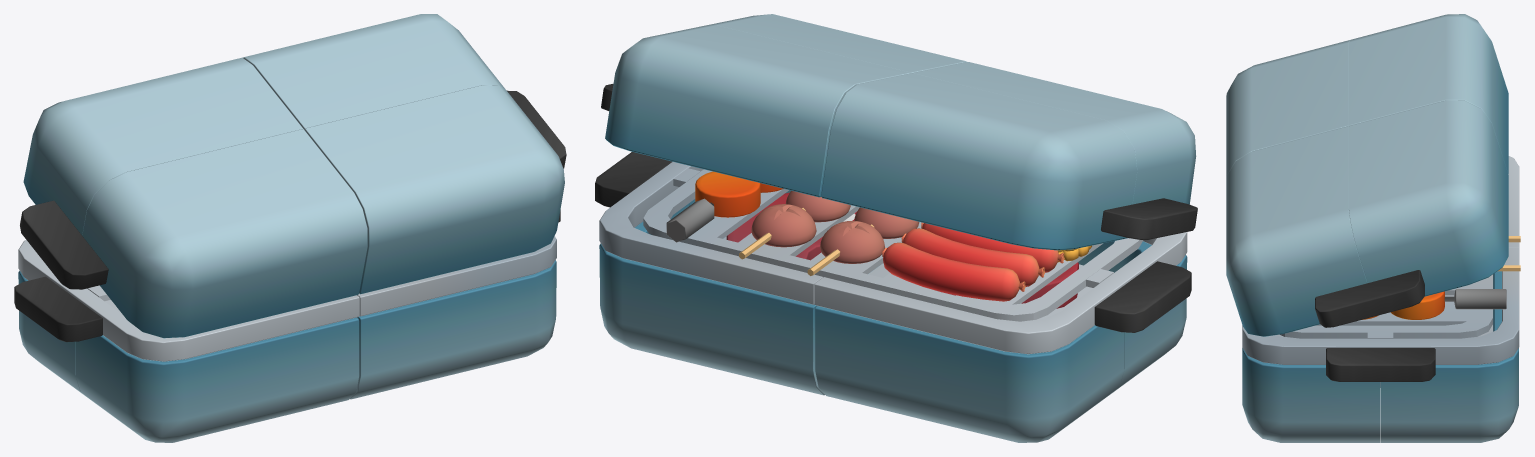
3 views of the same model, side by side, from view 1: azimuth 30°, elevation 25°; view 2: azimuth 150°, elevation 25°; view 3: azimuth 270°, elevation 25° (orthographic). The views are drawn at different scales.
Visible parts, largest first — view 1: Cube_L1_2.003, Cube_L1_3.003, Cube_L1.007, Cube_L2_2.003, Cube_L1_1.003, Cube_L2_3.003, Cube_L4.003, Cube_L4_1.003, Cube_L1_4.003, Cube_L2_4.003, Cube_L2.005, Cube_L1_5.003; view 2: Cube_L1.007, Cube_L1_1.003, Cube_L2.005, Cube_L2_1.003, Cube_L4_2.003, Cube_L4.003, Cube_L1_2.003, Cube_L4_1.003, Cube_L1_3.003, Cube_L3.003, Cube_L2_4.003, Cube_L3_7.002 (+9 smaller); view 3: Cube_L1_1.003, Cube_L1_3.003, Cube_L1.007, Cube_L1_2.003, Cube_L2_1.003, Cube_L2_3.003, Cube_L4_1.003, Cube_L4_2.003, Cube_L1_5.003, Cube_L2_5.003, Cube_L3_11.002, Cube_L4.003 (+1 smaller).
Part boxes in pixels (x1=…): Cube_L1_2.003: x1=82, y1=129, x2=367, y2=338; Cube_L1_3.003: x1=305, y1=85, x2=564, y2=294; Cube_L1.007: x1=23, y1=57, x2=303, y2=235; Cube_L2_2.003: x1=75, y1=317, x2=359, y2=442; Cube_L1_1.003: x1=242, y1=14, x2=507, y2=129; Cube_L2_3.003: x1=350, y1=260, x2=556, y2=399; Cube_L4.003: x1=18, y1=240, x2=359, y2=361; Cube_L4_1.003: x1=357, y1=236, x2=556, y2=316; Cube_L1_4.003: x1=20, y1=200, x2=108, y2=289; Cube_L2_4.003: x1=14, y1=276, x2=102, y2=342; Cube_L2.005: x1=18, y1=270, x2=90, y2=399; Cube_L1_5.003: x1=507, y1=90, x2=566, y2=168; Cube_L1.007: x1=821, y1=73, x2=1136, y2=250; Cube_L1_1.003: x1=605, y1=25, x2=910, y2=197; Cube_L2.005: x1=815, y1=306, x2=1124, y2=442; Cube_L2_1.003: x1=599, y1=203, x2=824, y2=395; Cube_L4_2.003: x1=643, y1=168, x2=1143, y2=321; Cube_L4.003: x1=814, y1=232, x2=1187, y2=354; Cube_L1_2.003: x1=913, y1=62, x2=1196, y2=238; Cube_L4_1.003: x1=599, y1=162, x2=822, y2=304; Cube_L1_3.003: x1=699, y1=14, x2=966, y2=73; Cube_L3.003: x1=882, y1=242, x2=1025, y2=301; Cube_L2_4.003: x1=1094, y1=261, x2=1191, y2=332; Cube_L3_7.002: x1=739, y1=190, x2=850, y2=259; Cube_L1_1.003: x1=1349, y1=100, x2=1508, y2=296; Cube_L1_3.003: x1=1226, y1=126, x2=1367, y2=336; Cube_L1.007: x1=1349, y1=14, x2=1508, y2=173; Cube_L1_2.003: x1=1226, y1=40, x2=1350, y2=177; Cube_L2_1.003: x1=1381, y1=271, x2=1518, y2=442; Cube_L2_3.003: x1=1242, y1=348, x2=1380, y2=442; Cube_L4_1.003: x1=1242, y1=247, x2=1519, y2=364; Cube_L4_2.003: x1=1280, y1=274, x2=1492, y2=338; Cube_L1_5.003: x1=1315, y1=270, x2=1424, y2=327; Cube_L2_5.003: x1=1326, y1=348, x2=1435, y2=381; Cube_L3_11.002: x1=1444, y1=289, x2=1506, y2=309; Cube_L4.003: x1=1508, y1=156, x2=1519, y2=248.
Size of the model in its own units: 13.51 by 6.94 by 7.2.
